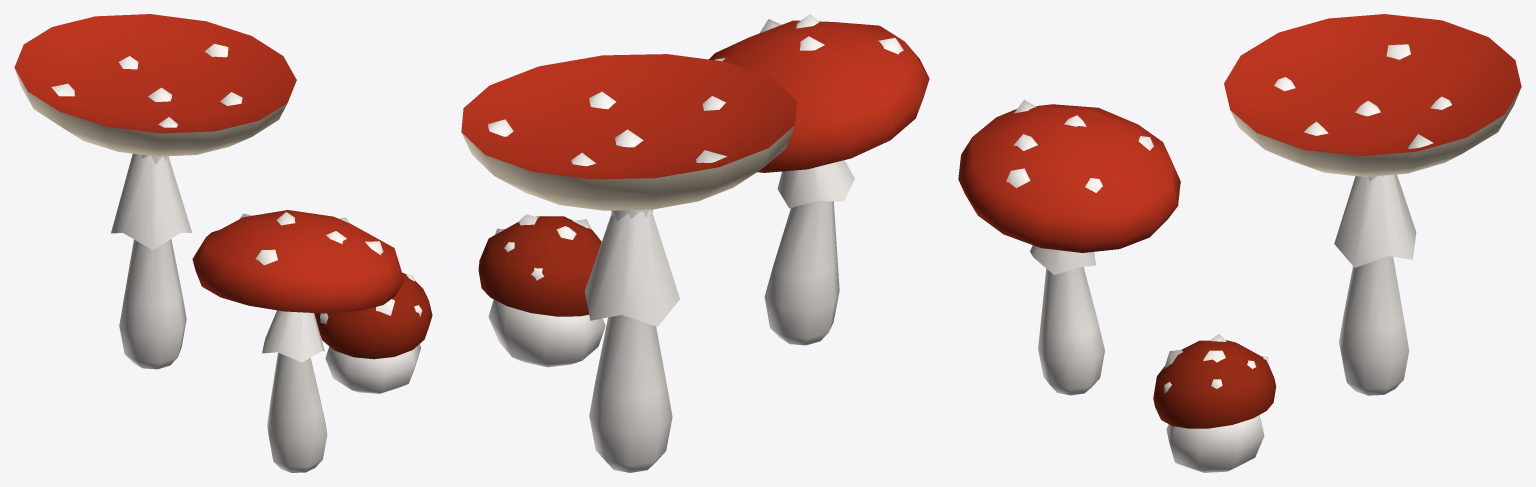
File: Fly_Agaric_Group_2.fbx
3 views of the same model, side by side, from view 1: azimuth 30°, elevation 25°; view 2: azimuth 150°, elevation 25°; view 3: azimuth 270°, elevation 25° (orthographic). The views are drawn at different scales.
Visible parts, largest first — view 1: Fly_Agaric_Group_2; view 2: Fly_Agaric_Group_2; view 3: Fly_Agaric_Group_2.
Part boxes in pixels (left/top/right/bottom): Fly_Agaric_Group_2: left=14, top=14, right=432, bottom=472; Fly_Agaric_Group_2: left=461, top=14, right=929, bottom=472; Fly_Agaric_Group_2: left=958, top=14, right=1521, bottom=472.
Bounding box in the file's own units: 49.68 × 44.6 × 72.84.
Materials: 1 (1 with a texture image).
